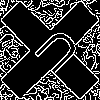U: (25, 25, 83, 84)
